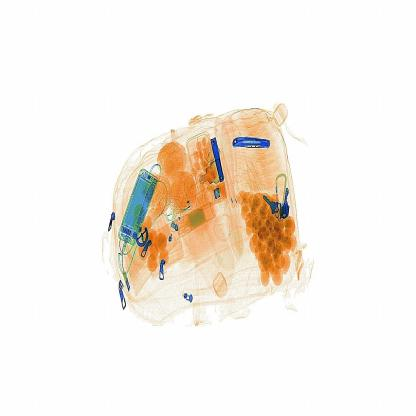knife: (226, 132, 279, 164)
